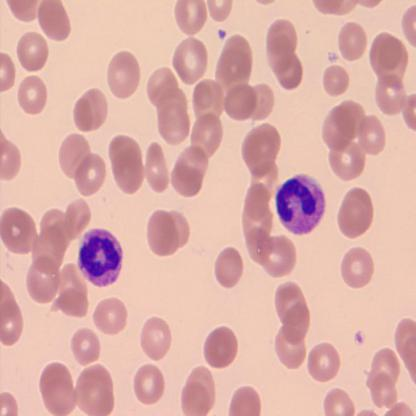Band Neutrophil: (274, 172, 327, 238), (75, 225, 126, 289)
